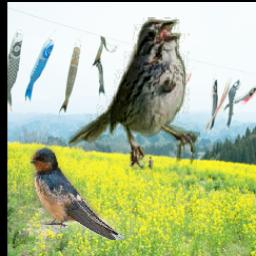Sparrow: (67, 17, 199, 170)
Swallow: (29, 148, 123, 241)
